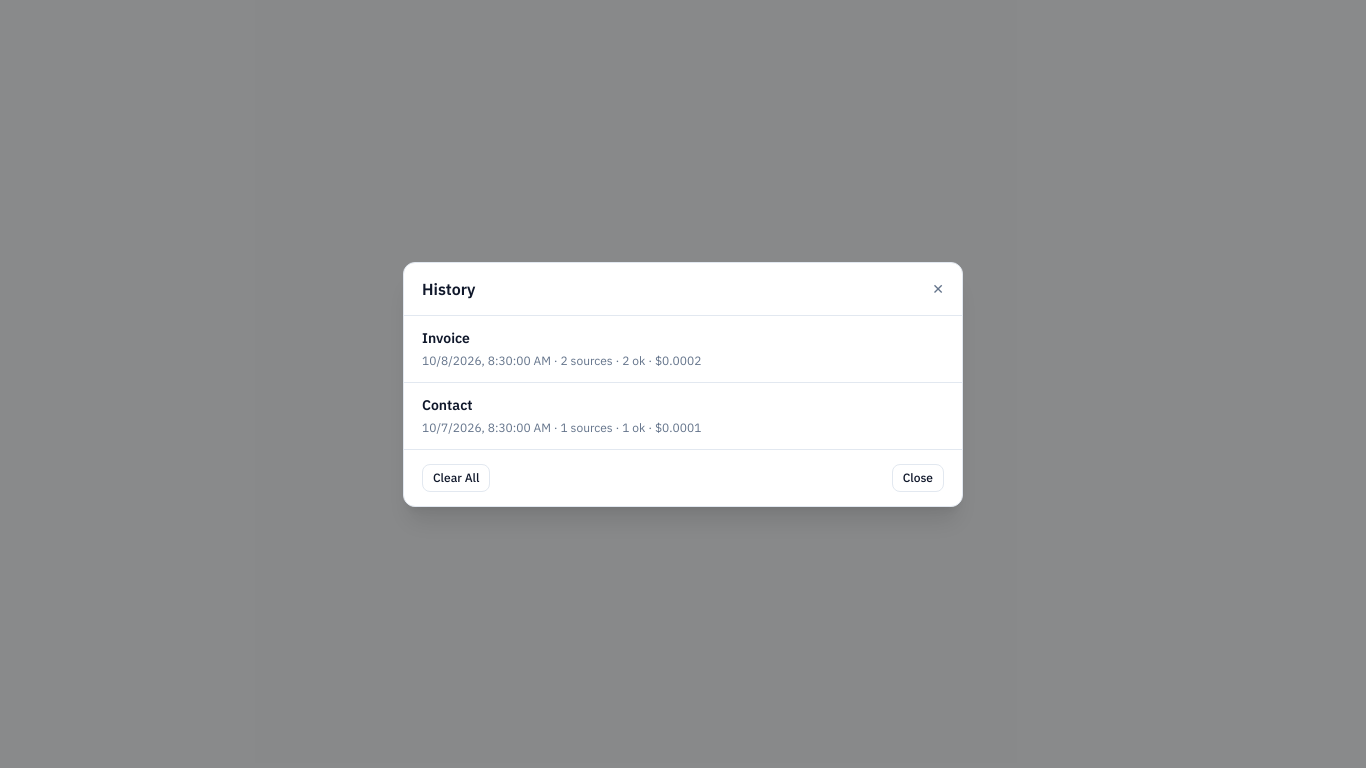
Test: HistoryPanel › clears all entries via the Clear All button and persists the change
Click the button "Clear All" at [456, 478], box [422,464,490,492]
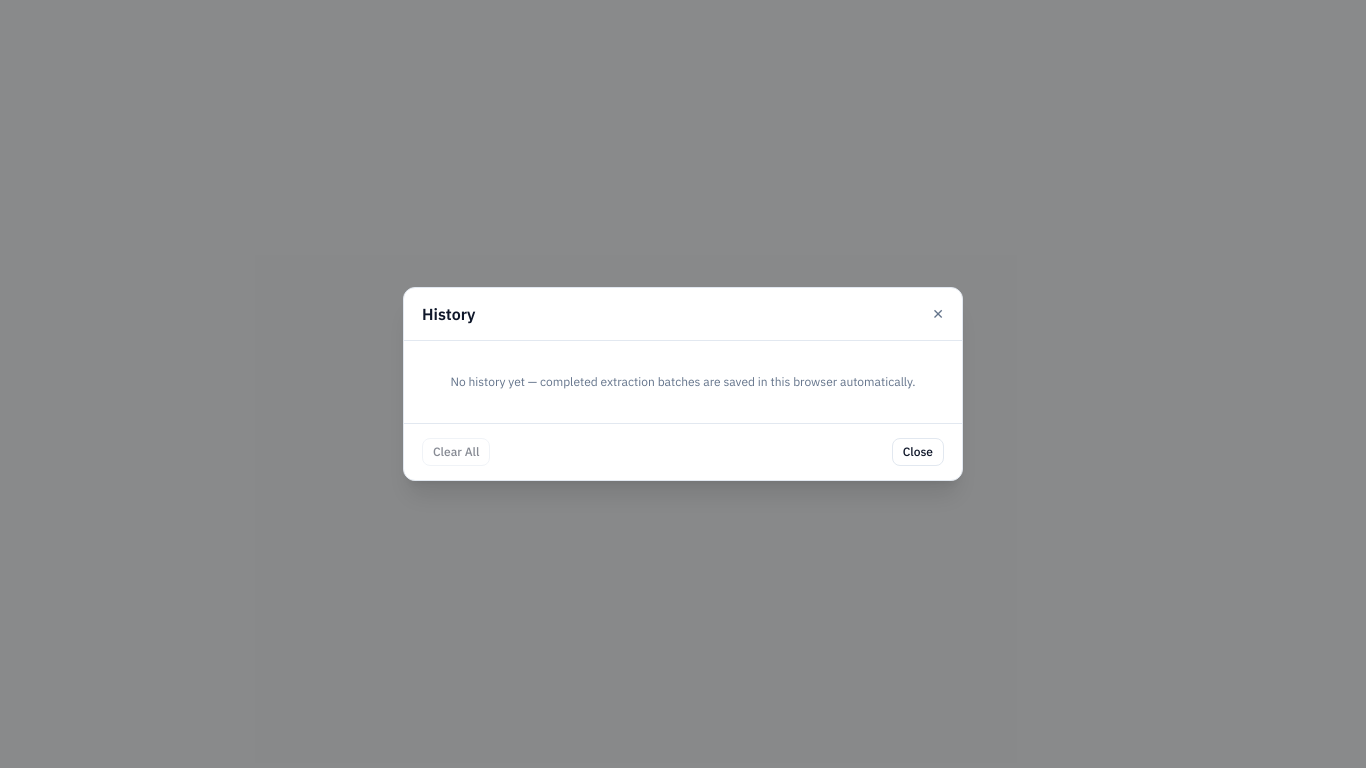
Expected: the text "No history yet" is shown, [450,374,916,389]
